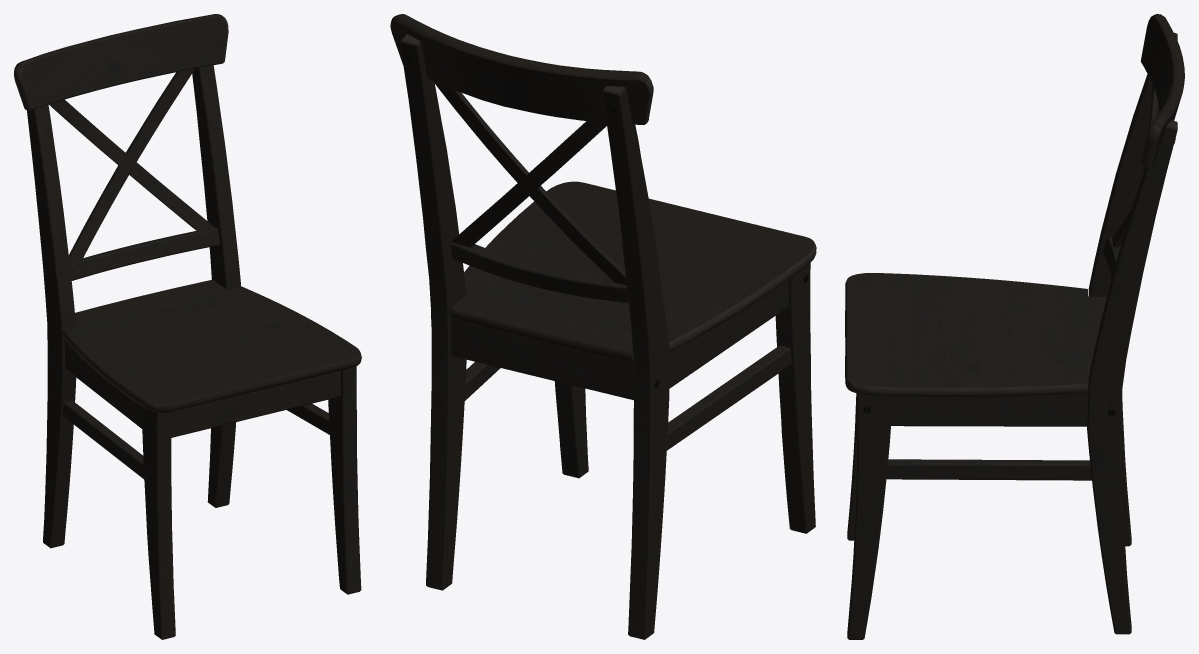
The picture shows the model from 3 angles, left to right: view 1: azimuth 30°, elevation 25°; view 2: azimuth 150°, elevation 25°; view 3: azimuth 270°, elevation 25°; orthographic projection. The views are drawn at different scales.
Visible parts, largest first — view 1: model; view 2: model; view 3: model.
Part boxes in pixels (<box>): model: <box>14,14,361,639</box>; model: <box>390,14,816,639</box>; model: <box>845,14,1184,639</box>.
Bounding box in the file's own units: 0.4297 × 0.9045 × 0.5352.
Materials: 1 (1 with a texture image).
